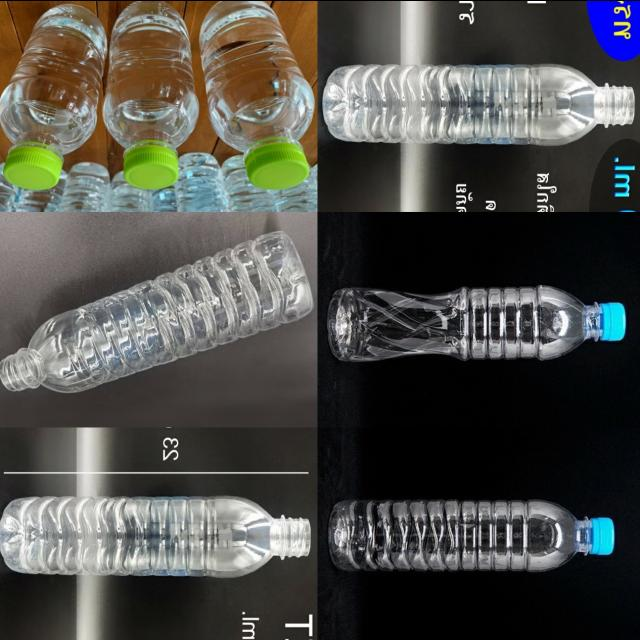plastik: (0, 230, 312, 392), (324, 64, 635, 144), (0, 496, 311, 576), (329, 285, 626, 359), (200, 0, 315, 189), (329, 498, 614, 570), (0, 4, 107, 189), (104, 0, 198, 189)
